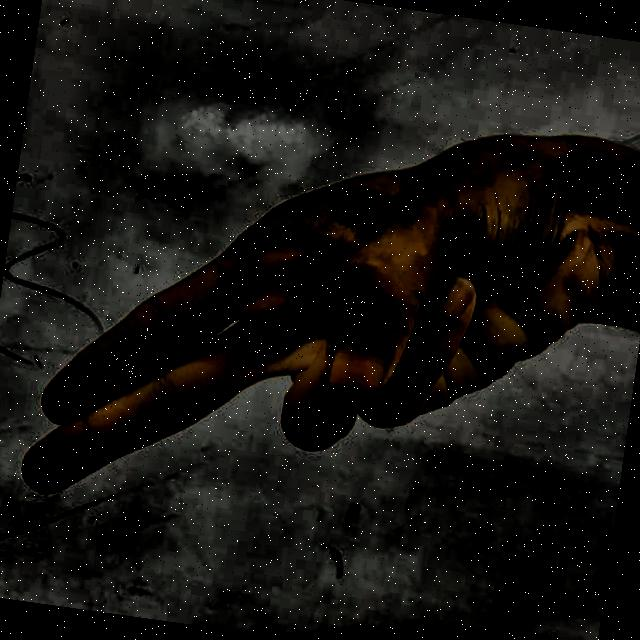Ha: (0, 42, 637, 638)
